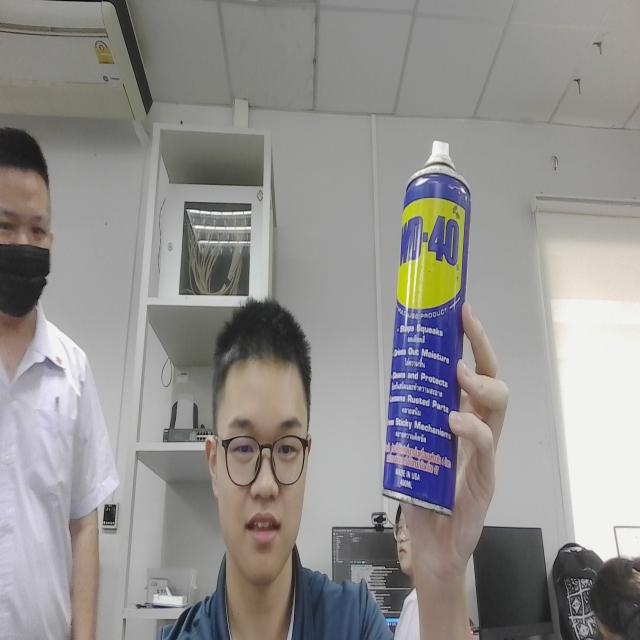wd-40: (370, 110, 478, 522)
